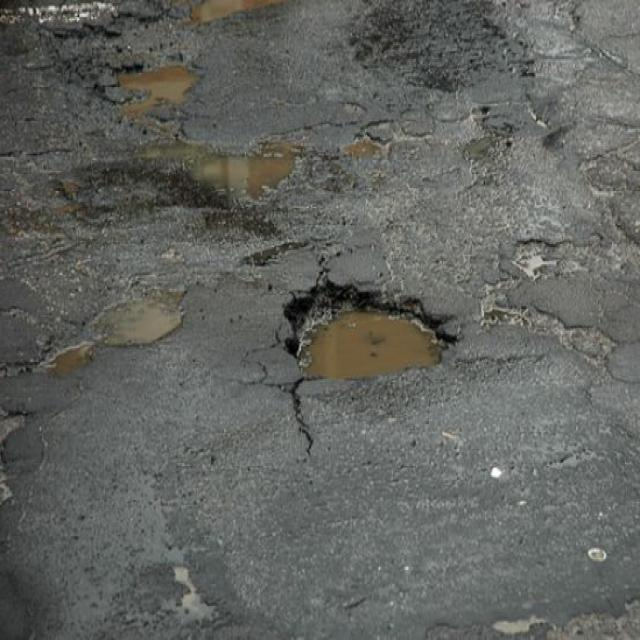pothole: (284, 276, 462, 388), (34, 280, 188, 380)
